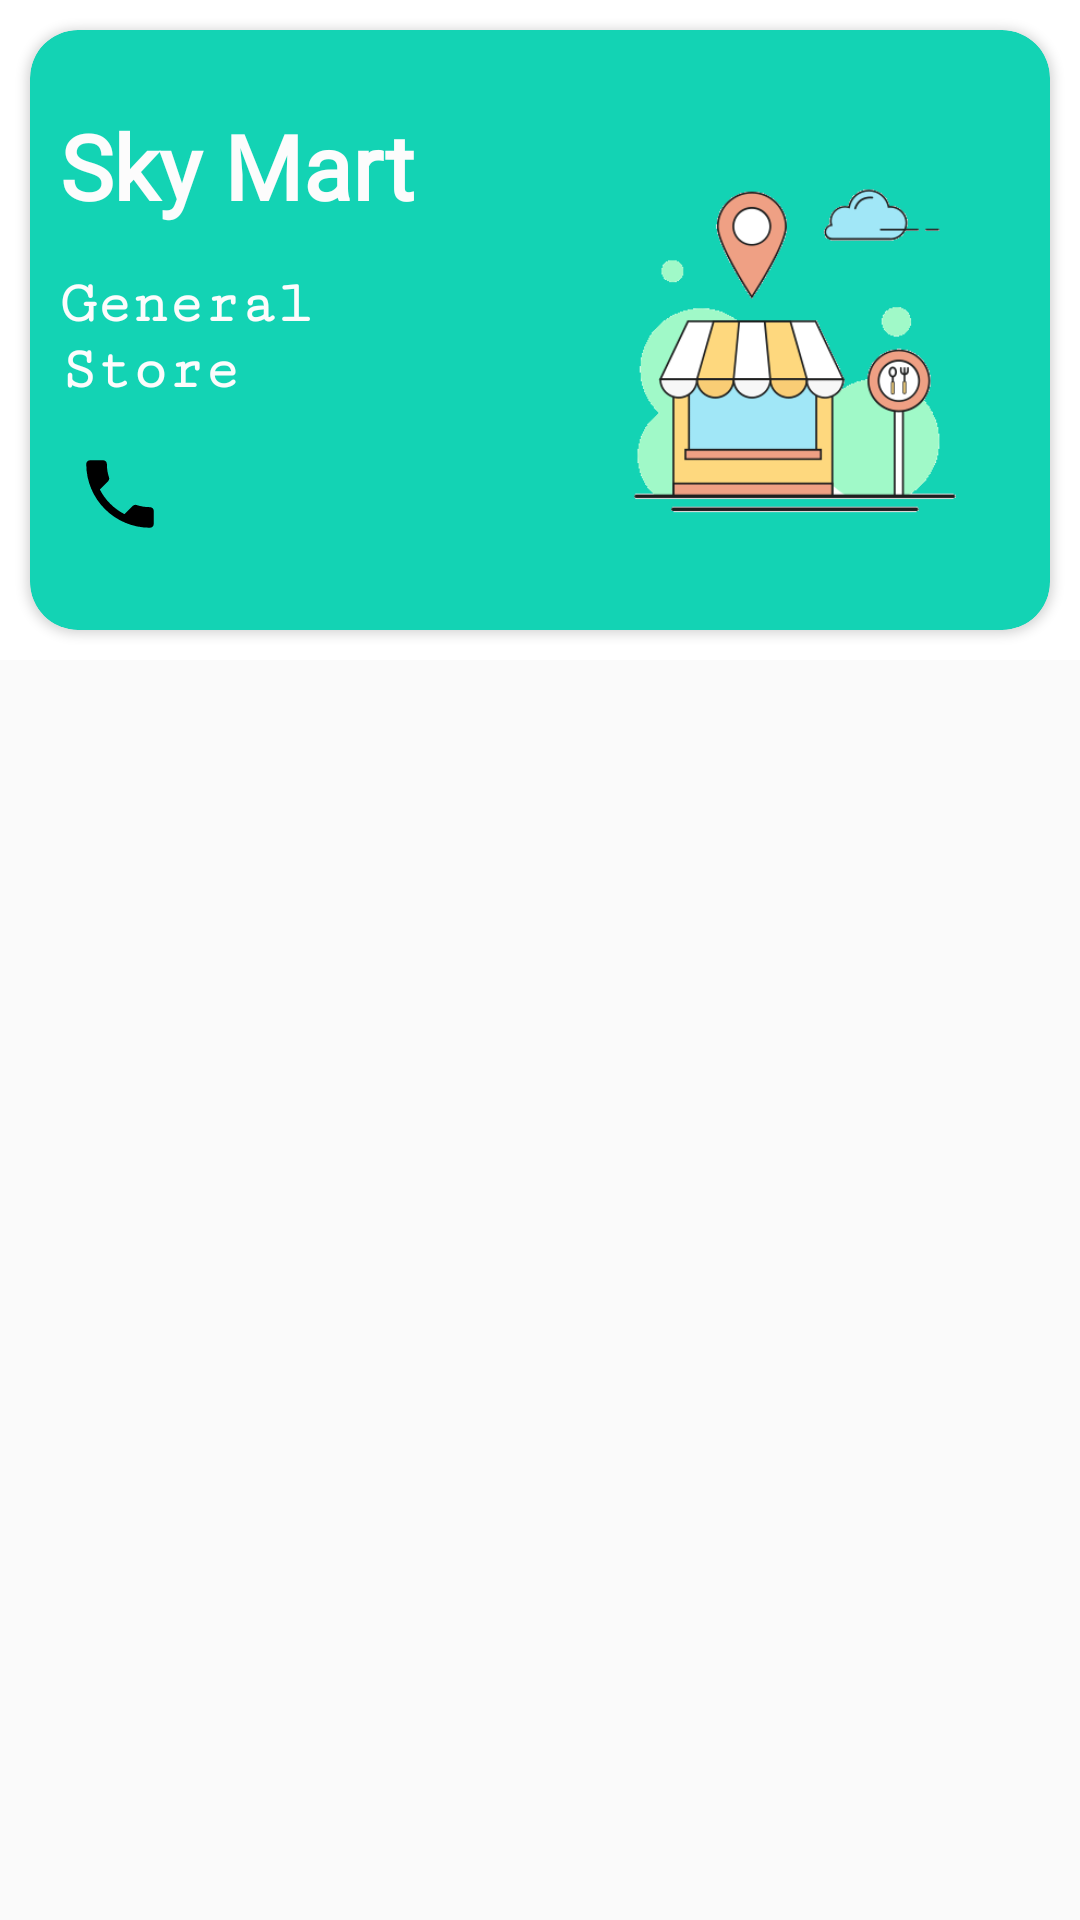

Where icons sit on this 1080 x 1920 app screen, as (x1, y1, x2, y2):
call: (86, 460, 154, 528)
stores: (634, 189, 956, 513)
